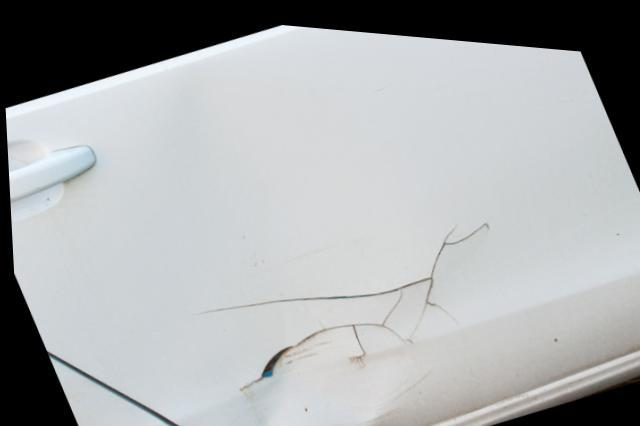crack: (190, 213, 488, 388)
dent: (244, 334, 376, 426)
